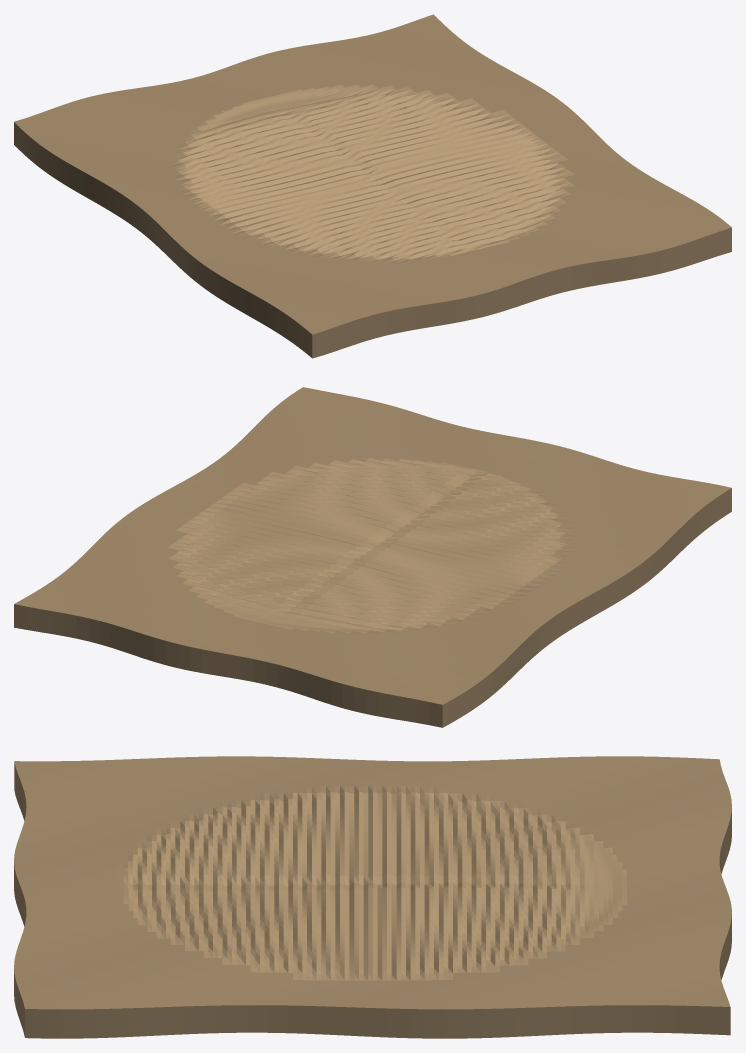
3 views of the same model, one above another, from view 1: azimuth 30°, elevation 25°; view 2: azimuth 150°, elevation 25°; view 3: azimuth 270°, elevation 25° (orthographic). The views are drawn at different scales.
Visible parts, largest first — view 1: original_Dickinsonia_fossil_mould_in_continuous_matrix_SAM_P; view 2: original_Dickinsonia_fossil_mould_in_continuous_matrix_SAM_P; view 3: original_Dickinsonia_fossil_mould_in_continuous_matrix_SAM_P.
Part boxes in pixels (x1,y1,x2,y2): original_Dickinsonia_fossil_mould_in_continuous_matrix_SAM_P: [14, 14, 731, 358]; original_Dickinsonia_fossil_mould_in_continuous_matrix_SAM_P: [14, 387, 731, 727]; original_Dickinsonia_fossil_mould_in_continuous_matrix_SAM_P: [14, 756, 731, 1038].
Bounding box in the file's own units: 0.1536 × 0.00891 × 0.1832.
